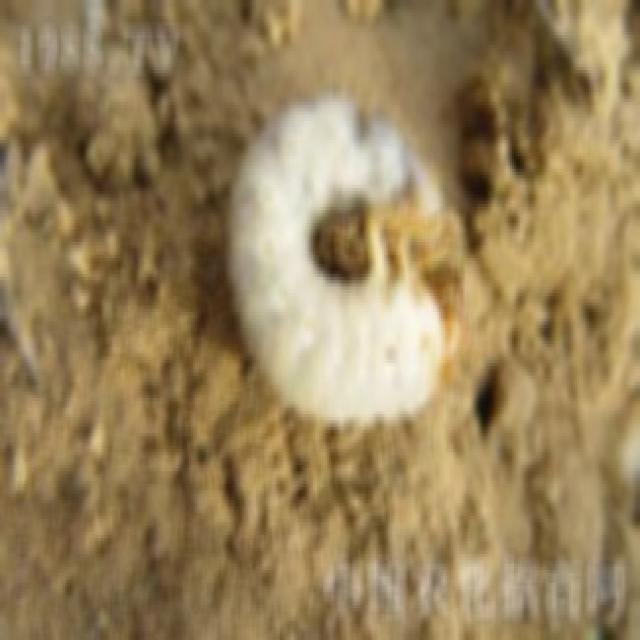grub: (226, 102, 457, 417)
